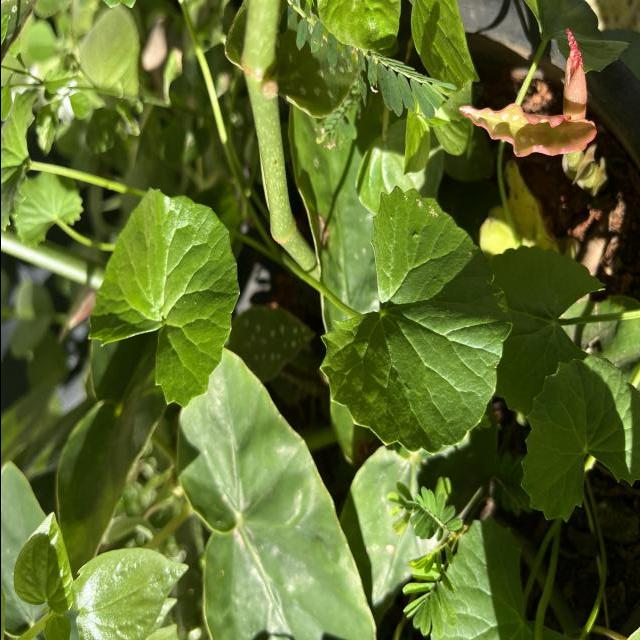Centella asiatica: (316, 182, 516, 456), (84, 185, 244, 412)
